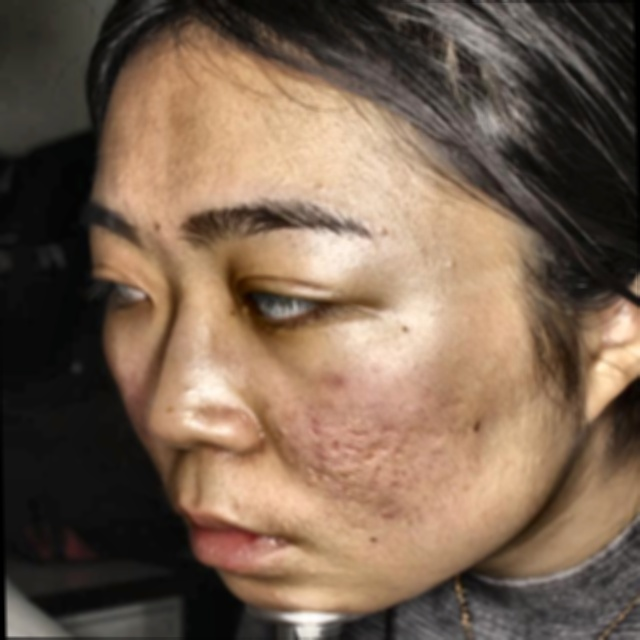comedone: (316, 365, 349, 393)
